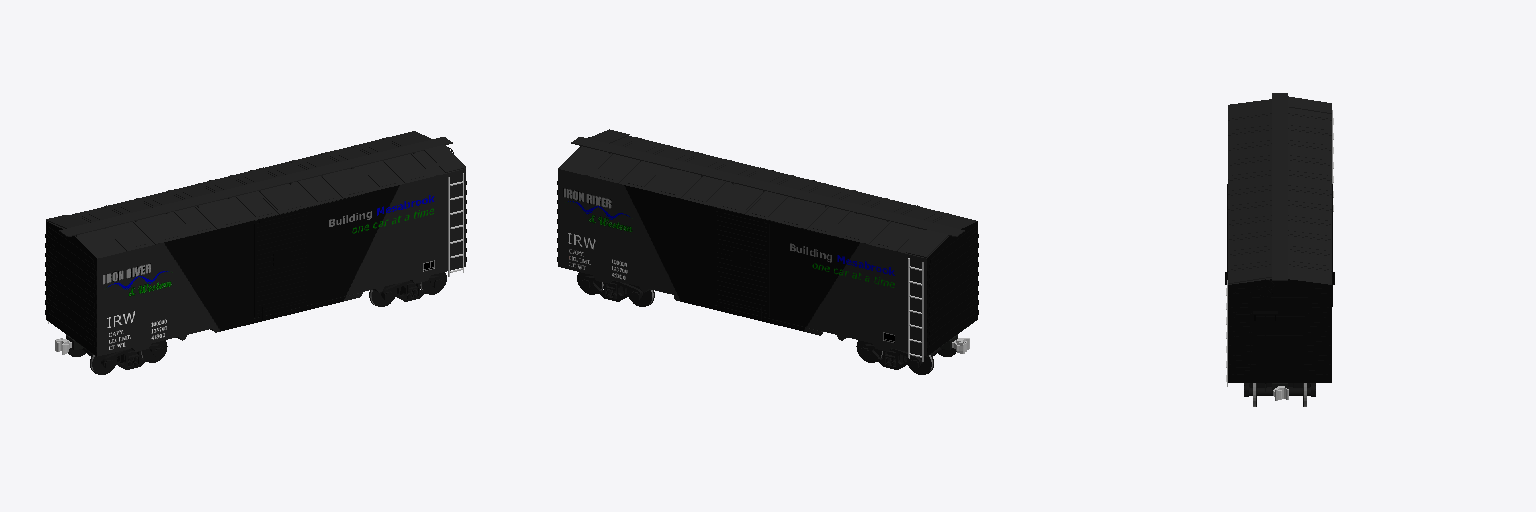
The picture shows the model from 3 angles: view 1: azimuth 30°, elevation 25°; view 2: azimuth 150°, elevation 25°; view 3: azimuth 270°, elevation 25°; orthographic projection.
Parts seen in each view (by area): view 1: SHELL, SHELL_roof, SHELL_door.001, SHELL_roofwalkway, SHELL_detail, BOGEY_FRONT, BOGEY_REAR; view 2: SHELL, SHELL_roof, SHELL_door.001, SHELL_roofwalkway, SHELL_detail, BOGEY_REAR, BOGEY_FRONT, SHELL_ladders; view 3: SHELL_roof, SHELL, SHELL_detail, SHELL_roofwalkway.
Boxes of the visible parts, <box> form: SHELL: <box>46,169,465,356</box>; SHELL_roof: <box>47,131,465,258</box>; SHELL_door.001: <box>209,170,309,320</box>; SHELL_roofwalkway: <box>46,137,465,236</box>; SHELL_detail: <box>45,181,466,351</box>; BOGEY_FRONT: <box>103,344,162,369</box>; BOGEY_REAR: <box>382,276,441,301</box>; SHELL: <box>558,159,977,356</box>; SHELL_roof: <box>558,136,976,258</box>; SHELL_door.001: <box>714,170,814,320</box>; SHELL_roofwalkway: <box>571,129,964,257</box>; SHELL_detail: <box>557,181,978,351</box>; BOGEY_REAR: <box>582,276,641,301</box>; BOGEY_FRONT: <box>861,344,920,369</box>; SHELL_ladders: <box>908,258,923,361</box>; SHELL_roof: <box>1228,99,1331,284</box>; SHELL: <box>1228,279,1331,382</box>; SHELL_detail: <box>1229,288,1330,378</box>; SHELL_roofwalkway: <box>1228,93,1331,283</box>.
Size of the model in its own units: 13.5 by 4.51 by 3.21.
Materials: 2 (1 with a texture image).